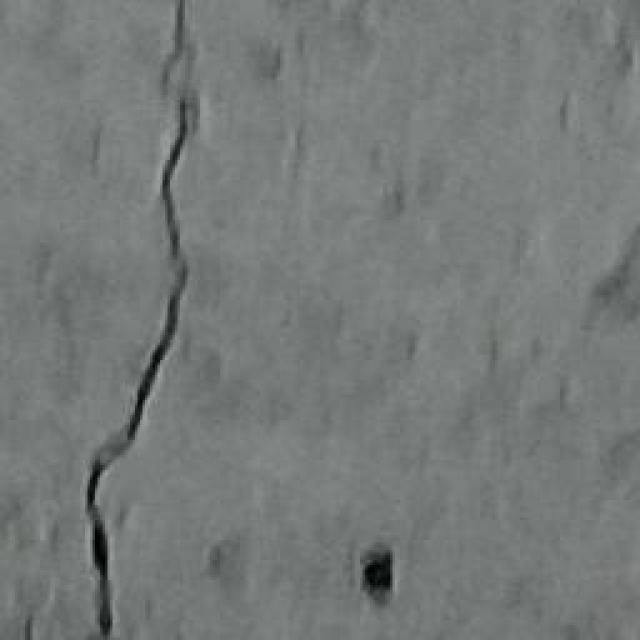Annular: (335, 526, 406, 594)
Longitudinal: (39, 0, 228, 640)
